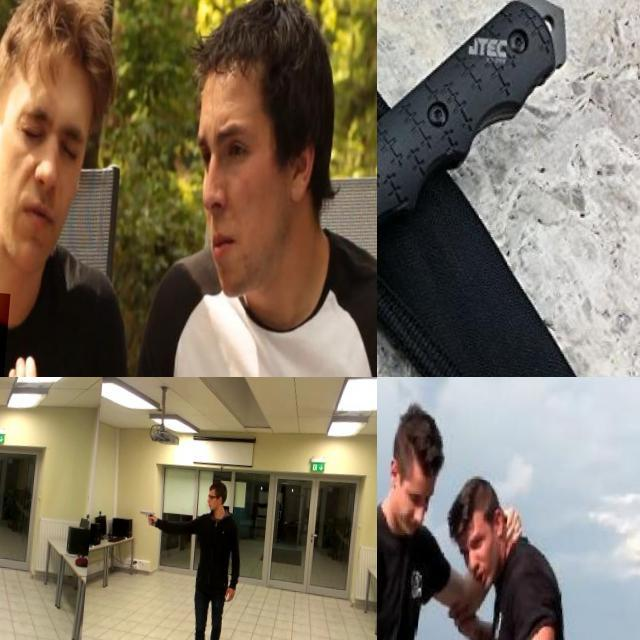-: (377, 166, 528, 377), (0, 284, 52, 377)
gun-knife-thesis - v11 Yolov5 augmented: (120, 377, 377, 531), (0, 377, 74, 506), (144, 498, 165, 518), (0, 466, 9, 485)
